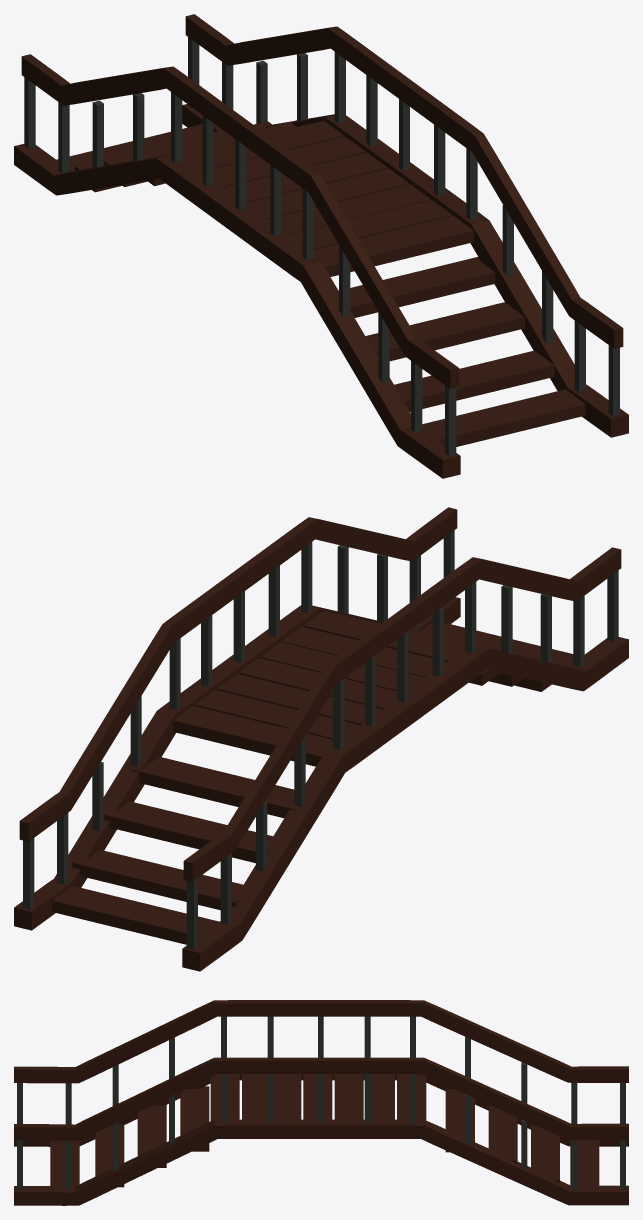
The model's file is shityBridge.fbx.
The picture shows the model from 3 angles, top to bottom: view 1: azimuth 30°, elevation 25°; view 2: azimuth 150°, elevation 25°; view 3: azimuth 270°, elevation 25°; orthographic projection. The views are drawn at different scales.
Parts seen in each view (by area): view 1: Cube.002_LOD0, Cube.014, Plane.003, Plane.002, Cube.001, Plane.001, Plane, Cube; view 2: Cube.002_LOD0, Cube.014, Cube.001, Plane.003, Cube, Plane.002, Plane.001, Plane; view 3: Cube.002_LOD0, Cube.014, Plane.002, Plane.003, Cube, Cube.001, Plane, Plane.001.
Part boxes in pixels (x1,y1,x2,y2): Cube.002_LOD0: [14, 14, 628, 478]; Cube.014: [56, 120, 585, 446]; Plane.003: [185, 17, 614, 348]; Plane.002: [21, 57, 450, 388]; Cube.001: [188, 37, 612, 416]; Plane.001: [182, 105, 611, 437]; Plane: [14, 147, 442, 478]; Cube: [24, 78, 448, 455]; Cube.002_LOD0: [14, 507, 628, 970]; Cube.014: [52, 610, 573, 944]; Cube.001: [23, 531, 454, 909]; Plane.003: [19, 510, 457, 841]; Cube: [186, 570, 618, 949]; Plane.002: [183, 550, 621, 881]; Plane.001: [14, 598, 460, 930]; Plane: [182, 653, 628, 971]; Cube.002_LOD0: [14, 1000, 628, 1205]; Cube.014: [50, 1074, 599, 1187]; Plane.002: [14, 1003, 628, 1083]; Plane.003: [14, 1060, 628, 1140]; Cube: [17, 1016, 625, 1124]; Cube.001: [17, 1074, 625, 1189]; Plane: [14, 1074, 628, 1146]; Plane.001: [121, 1125, 468, 1174].
Size of what is drawn, in the model's own units: 522 by 535 by 2084.
